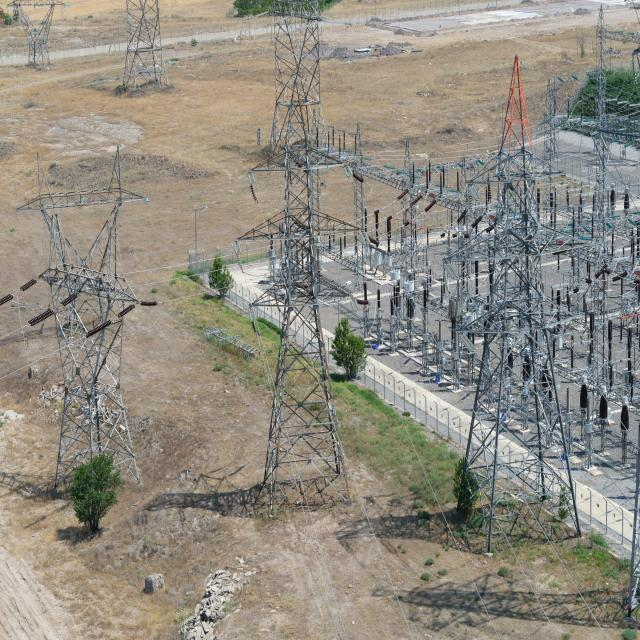direk: (464, 69, 582, 546), (32, 152, 142, 488), (256, 160, 351, 487), (271, 2, 326, 166), (392, 142, 423, 329), (122, 0, 164, 90), (351, 126, 370, 288), (13, 1, 58, 68), (332, 465, 362, 510), (561, 494, 583, 538), (45, 453, 63, 498), (259, 452, 270, 510), (123, 450, 141, 483), (155, 65, 171, 91), (122, 63, 130, 93), (22, 51, 32, 71), (44, 52, 56, 68)
